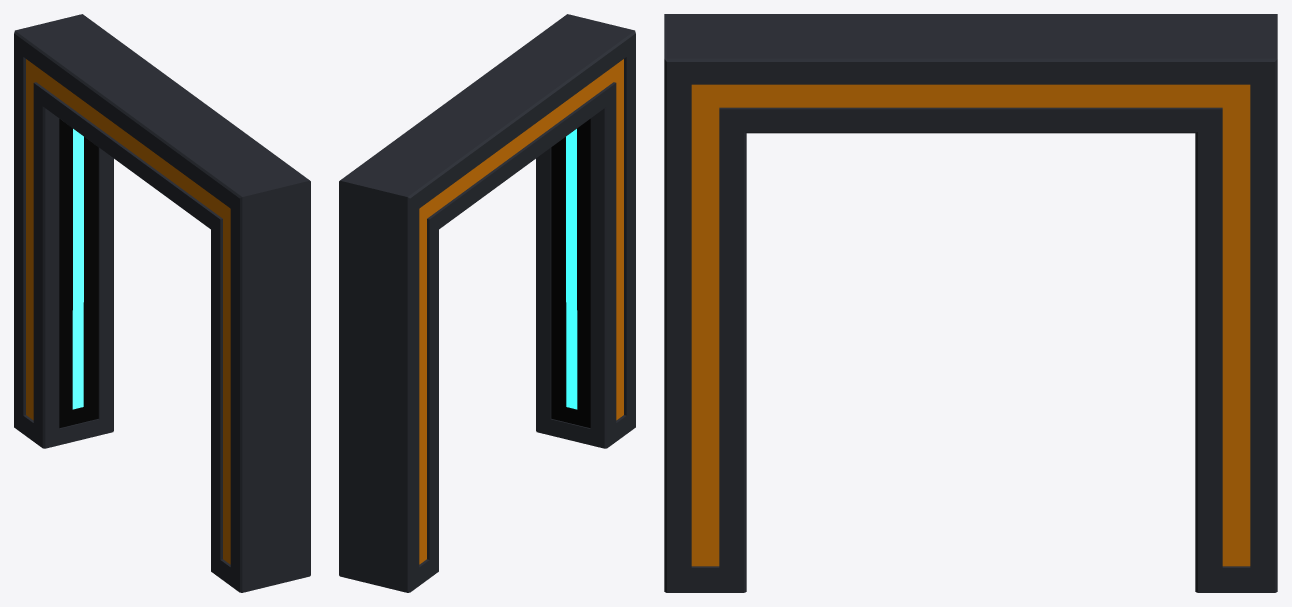
Rendered from SM_Door.glb.
The picture shows the model from 3 angles, left to right: view 1: azimuth 30°, elevation 25°; view 2: azimuth 150°, elevation 25°; view 3: azimuth 270°, elevation 25°; orthographic projection. The views are drawn at different scales.
Parts seen in each view (by area): view 1: SM_Door; view 2: SM_Door; view 3: SM_Door.
Boxes of the visible parts, box(x1,y1,x2,y2) form: SM_Door: box(14, 14, 310, 592); SM_Door: box(339, 14, 635, 592); SM_Door: box(664, 14, 1277, 592).
Bounding box in the file's own units: 0.7207 × 3.84 × 4.
